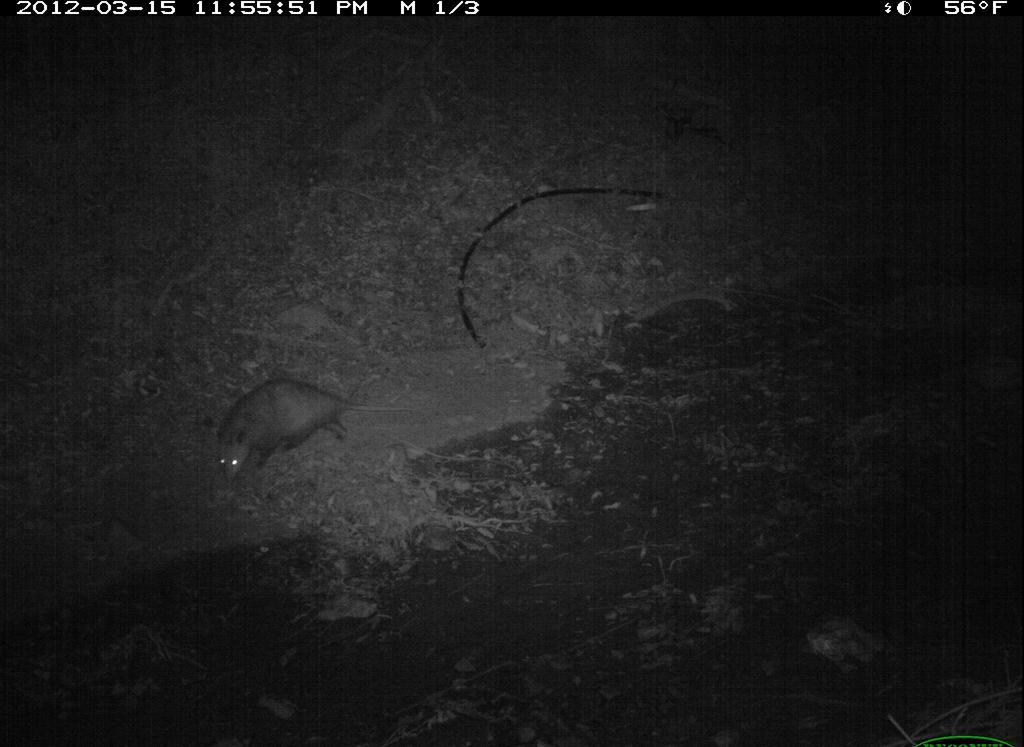opossum: (208, 376, 419, 486)
